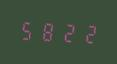eight: (38, 18, 57, 43)
five: (18, 17, 37, 42)
two: (78, 21, 97, 46), (58, 20, 77, 44)
